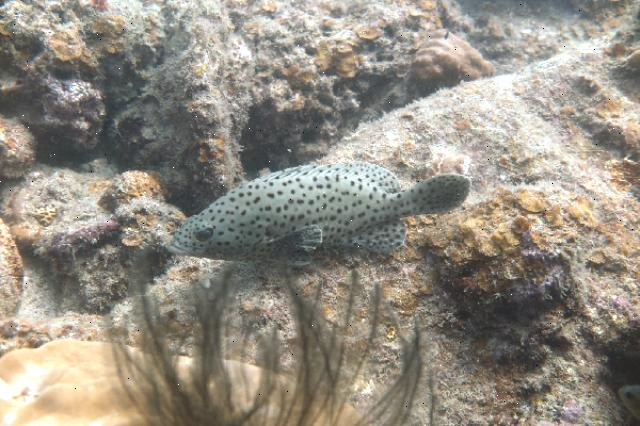Mulut: (152, 220, 202, 272)
Sirip Anal: (352, 212, 418, 260)
Sirip Dada: (264, 222, 328, 278)
Sirip Ekor: (412, 167, 484, 224)
Sirip Punggung: (248, 155, 402, 203)
